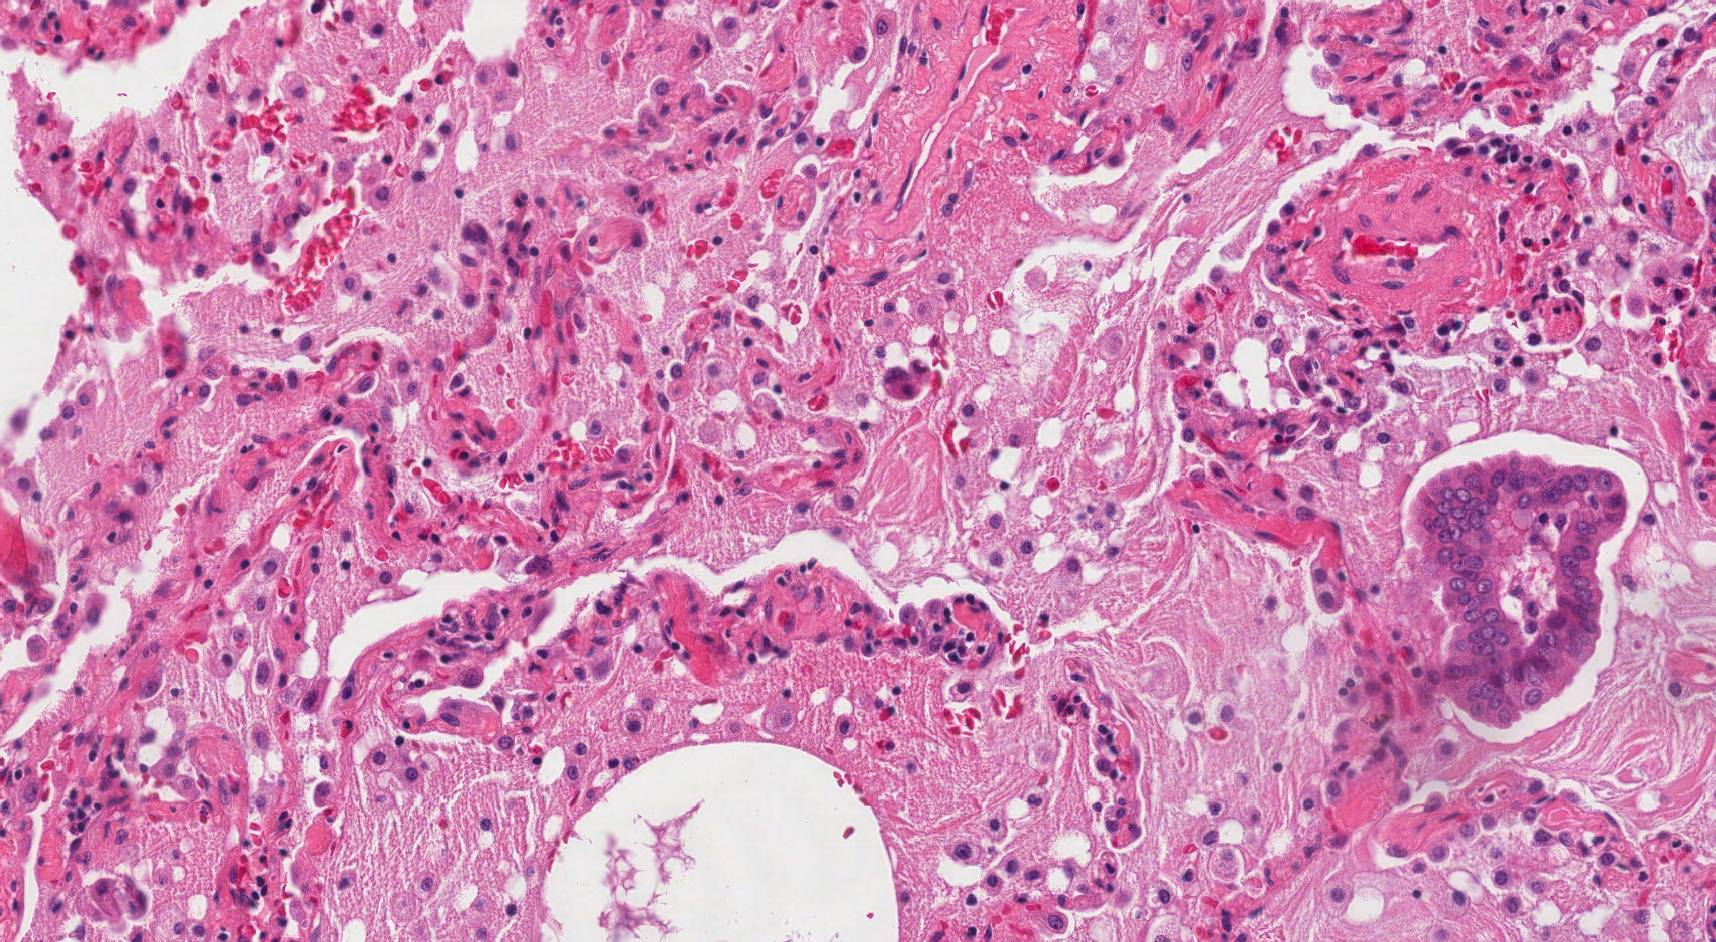stas: (1402, 450, 1627, 728)
